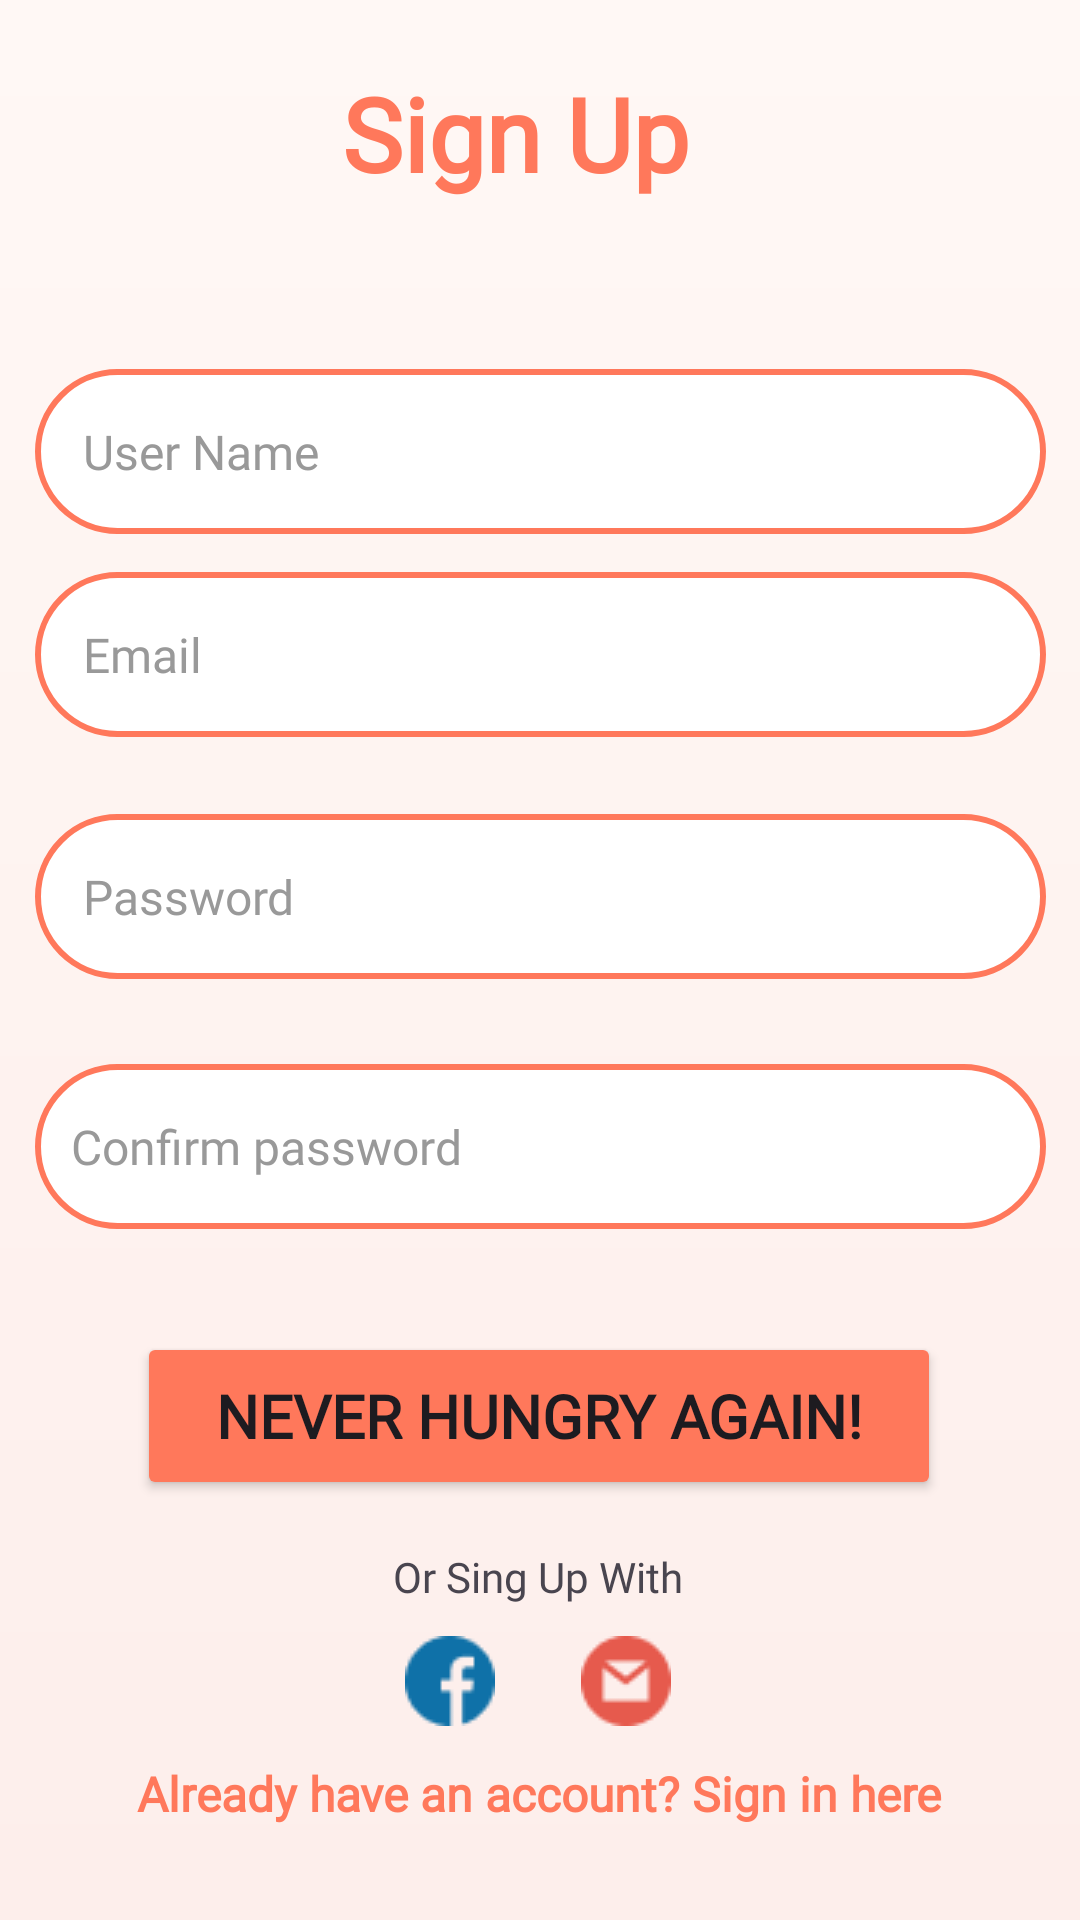

Screen size 1080 × 1920. Icon name, then its center in pixels as point (x, y):
gmail: point (626, 1681)
